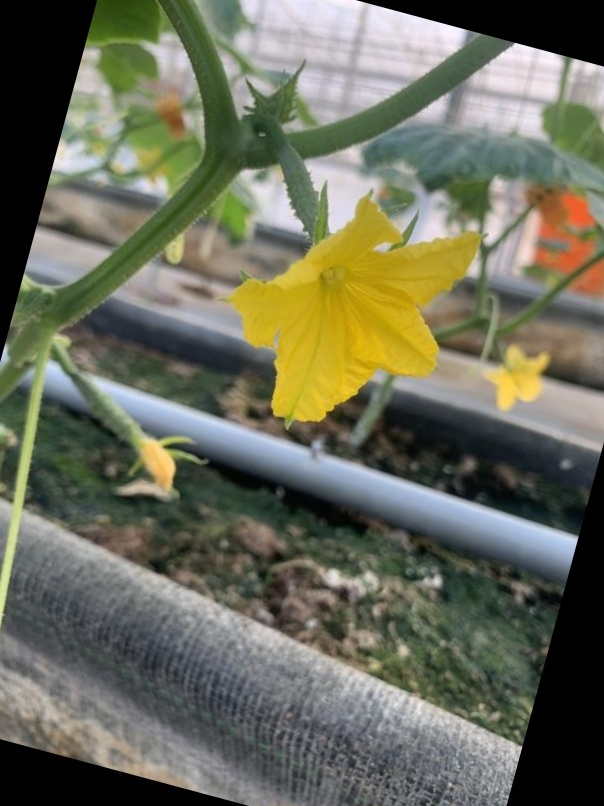flowering: (162, 131, 484, 442)
